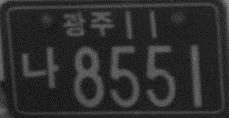1: (187, 42, 203, 110), (145, 7, 159, 40), (124, 7, 136, 40)
5: (109, 44, 141, 108), (144, 43, 176, 107)
8: (73, 44, 103, 107)
광주_O: (61, 11, 114, 37)
나: (20, 46, 60, 92)
